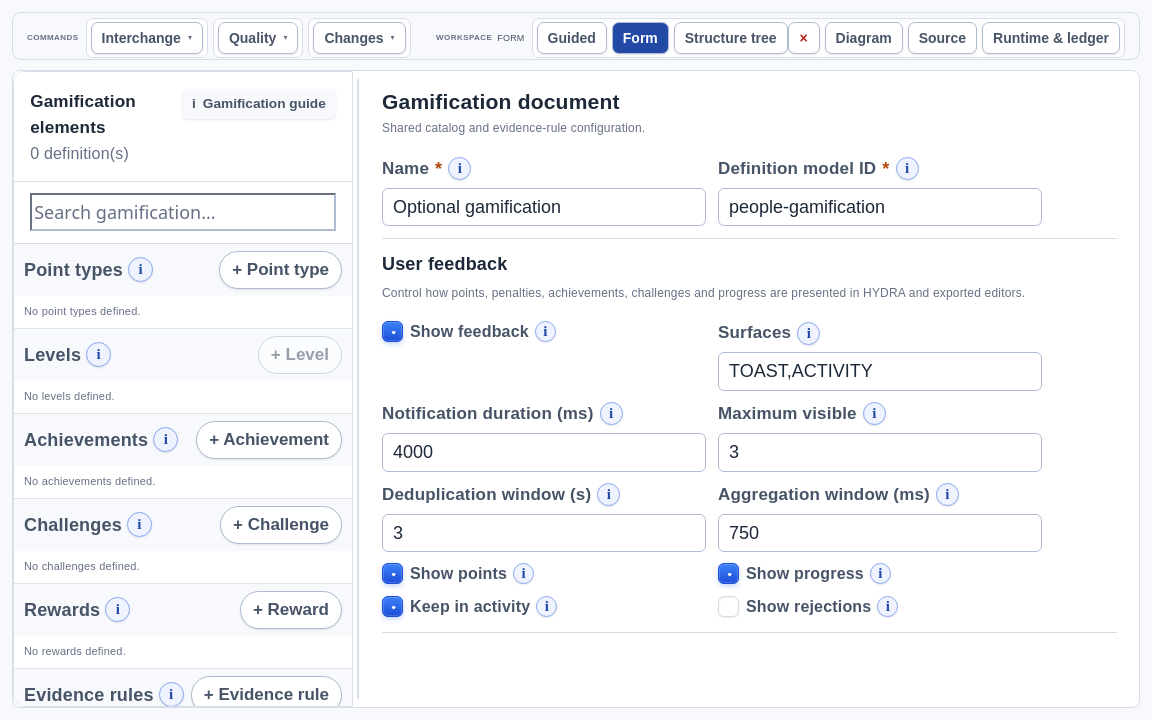
gamification designer forms › explains evidence-rule runtime requirements from the palette
Click the button named "Information about Evidence rule" at (171, 695), box [159,682,184,707]
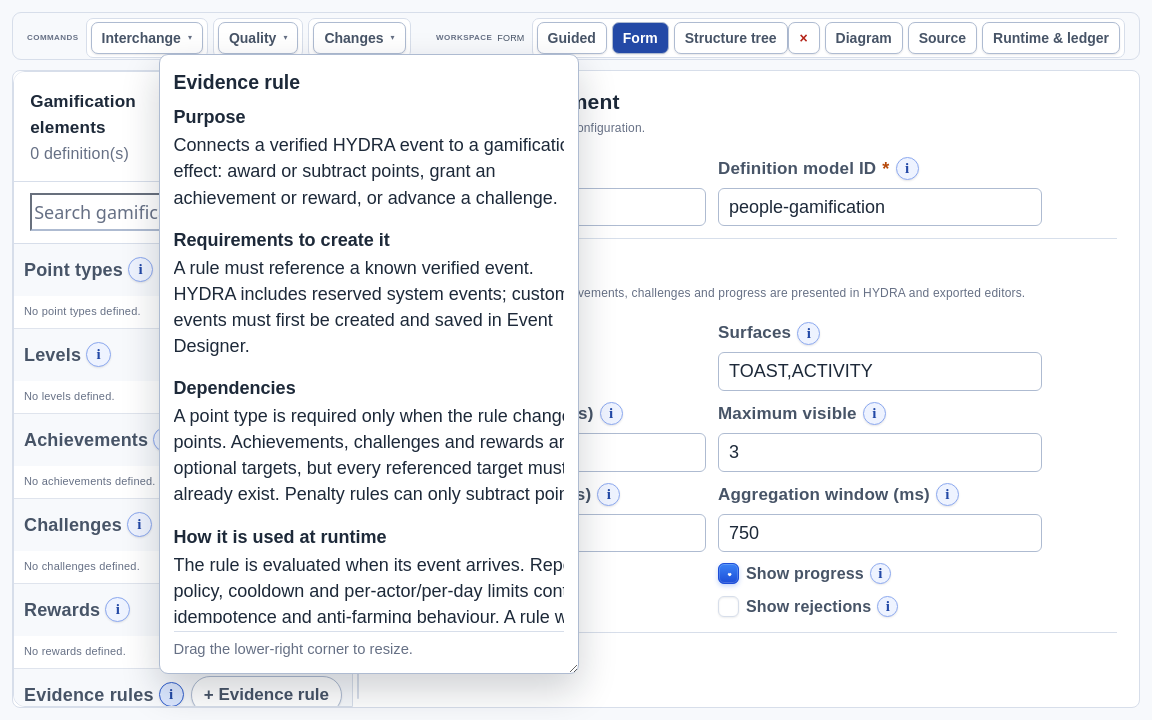
Expected: the tooltip shows "known verified event", [174,258,570,356]
Expected: the tooltip shows "custom events must first be created and saved in Event Designer", [174,258,570,356]
Expected: the tooltip shows "Penalty rules can only subtract points", [174,406,588,504]
